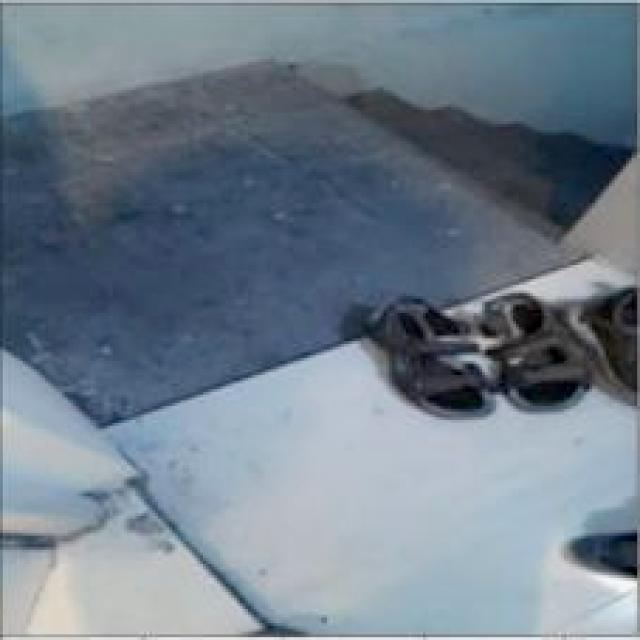downstair: (300, 18, 599, 226)
